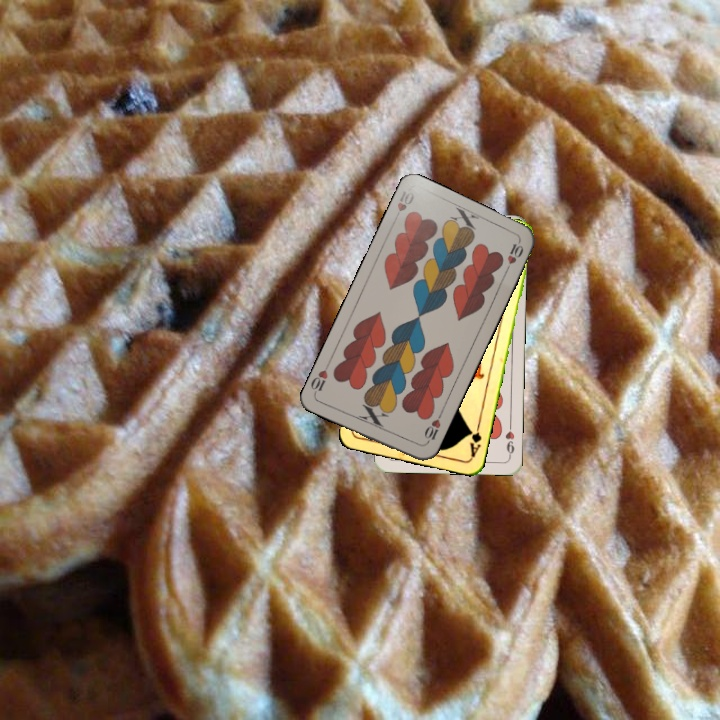GA: (465, 419, 484, 459)
H10: (420, 410, 445, 448), (393, 187, 417, 215)
H9: (501, 418, 517, 459)
